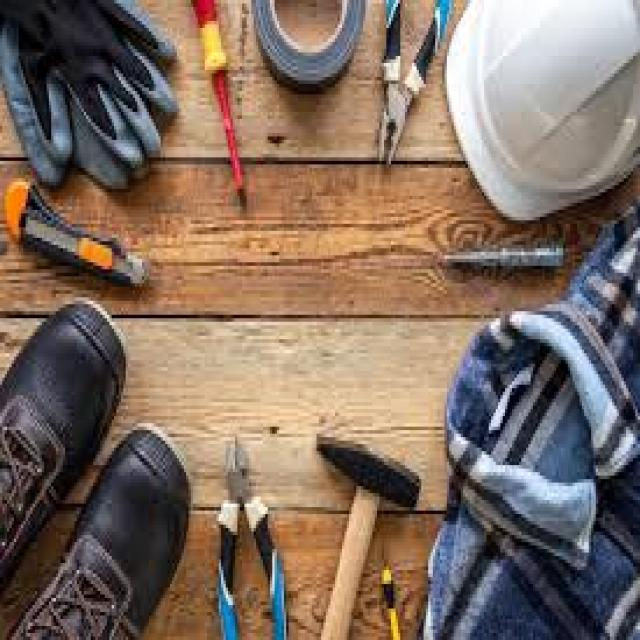hammer: (301, 430, 432, 640)
screwdriver: (175, 0, 257, 220)
